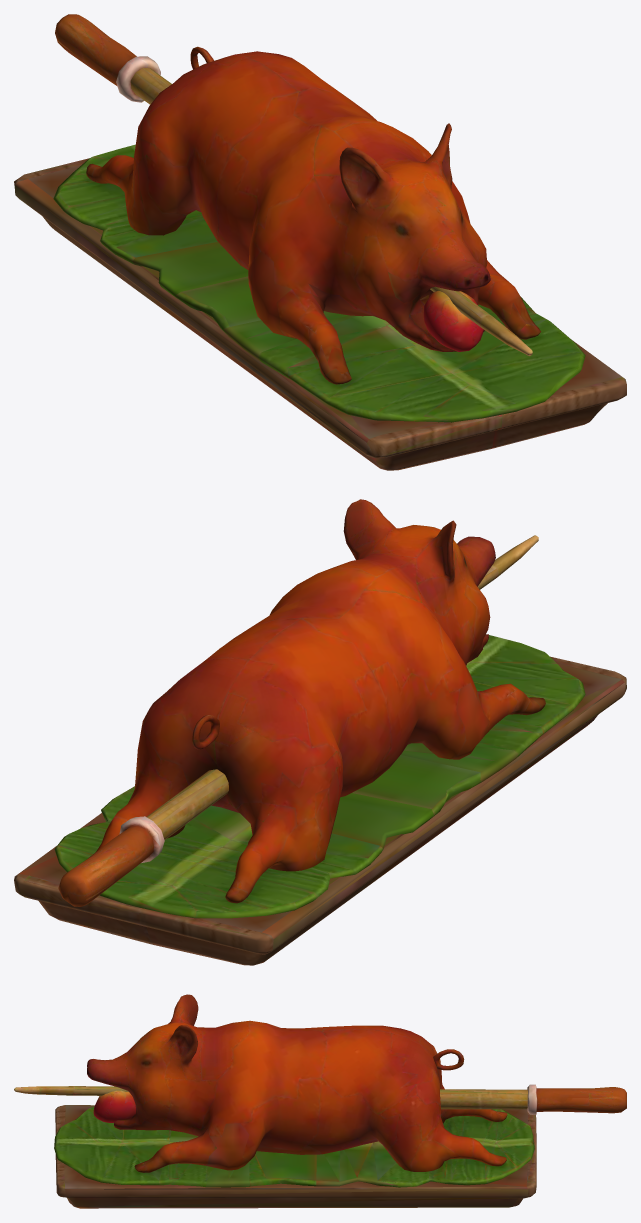
File: lechon.glb
The picture shows the model from 3 angles, top to bottom: view 1: azimuth 30°, elevation 25°; view 2: azimuth 150°, elevation 25°; view 3: azimuth 270°, elevation 25°; orthographic projection. The views are drawn at different scales.
Visible parts, largest first — view 1: geometry_0; view 2: geometry_0; view 3: geometry_0.
Boxes of the visible parts, x1,y1,x2,y2 form: geometry_0: (14, 14, 626, 470); geometry_0: (14, 499, 626, 965); geometry_0: (14, 994, 626, 1208).
Size of the model in its own units: 0.3254 by 0.2954 by 1.
Materials: 1 (1 with a texture image).
